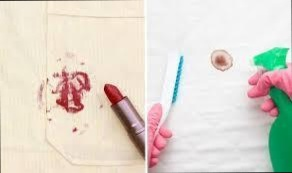blood: (211, 47, 235, 72)
lipstick: (49, 66, 103, 136), (31, 78, 51, 113), (52, 52, 89, 69)
